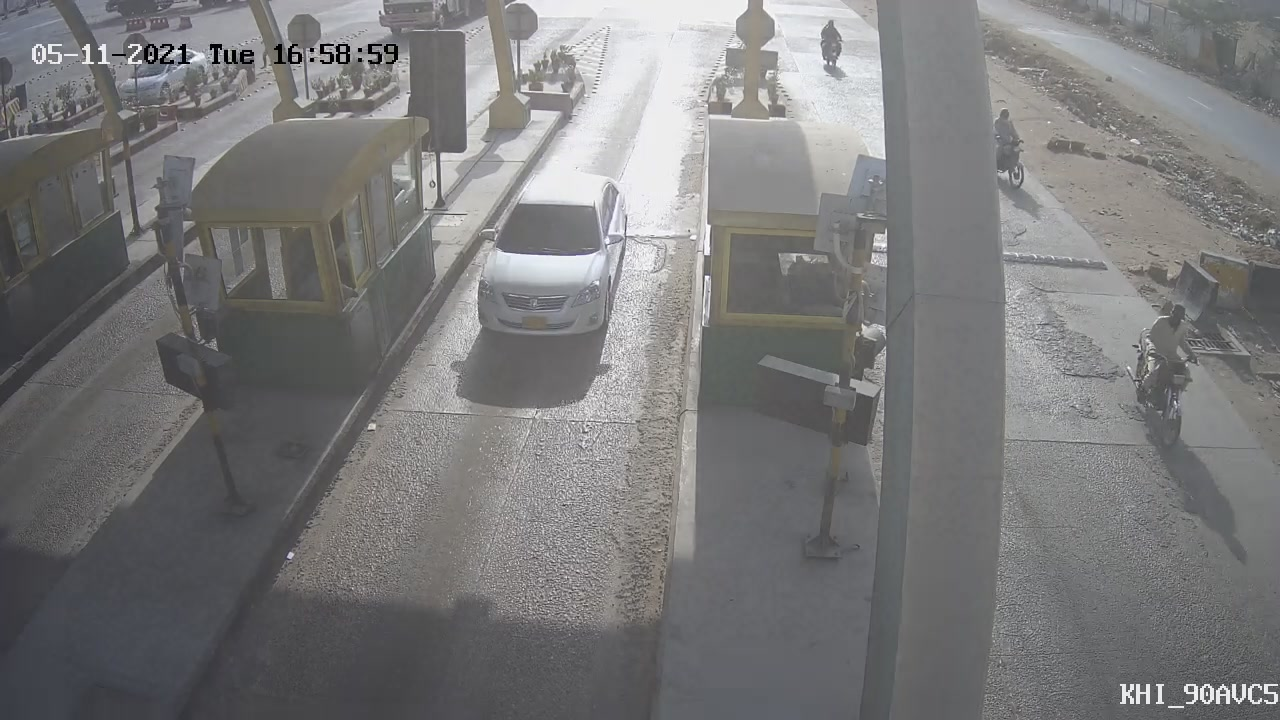F1: (446, 155, 650, 361)
